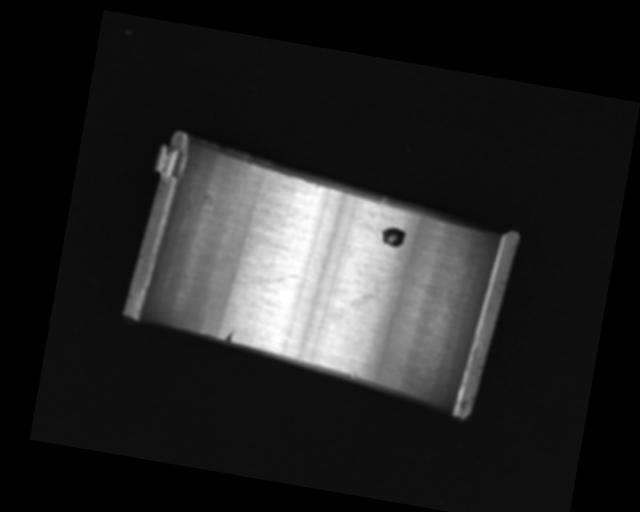blot: (347, 263, 405, 315), (379, 224, 407, 250)
bruise: (224, 328, 235, 343), (349, 371, 358, 380)
